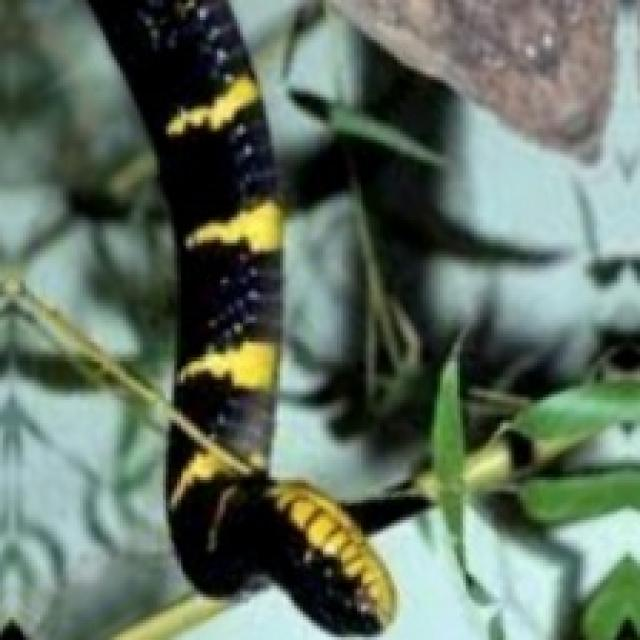mangrove cat snake: (89, 0, 394, 631), (89, 0, 391, 631)
